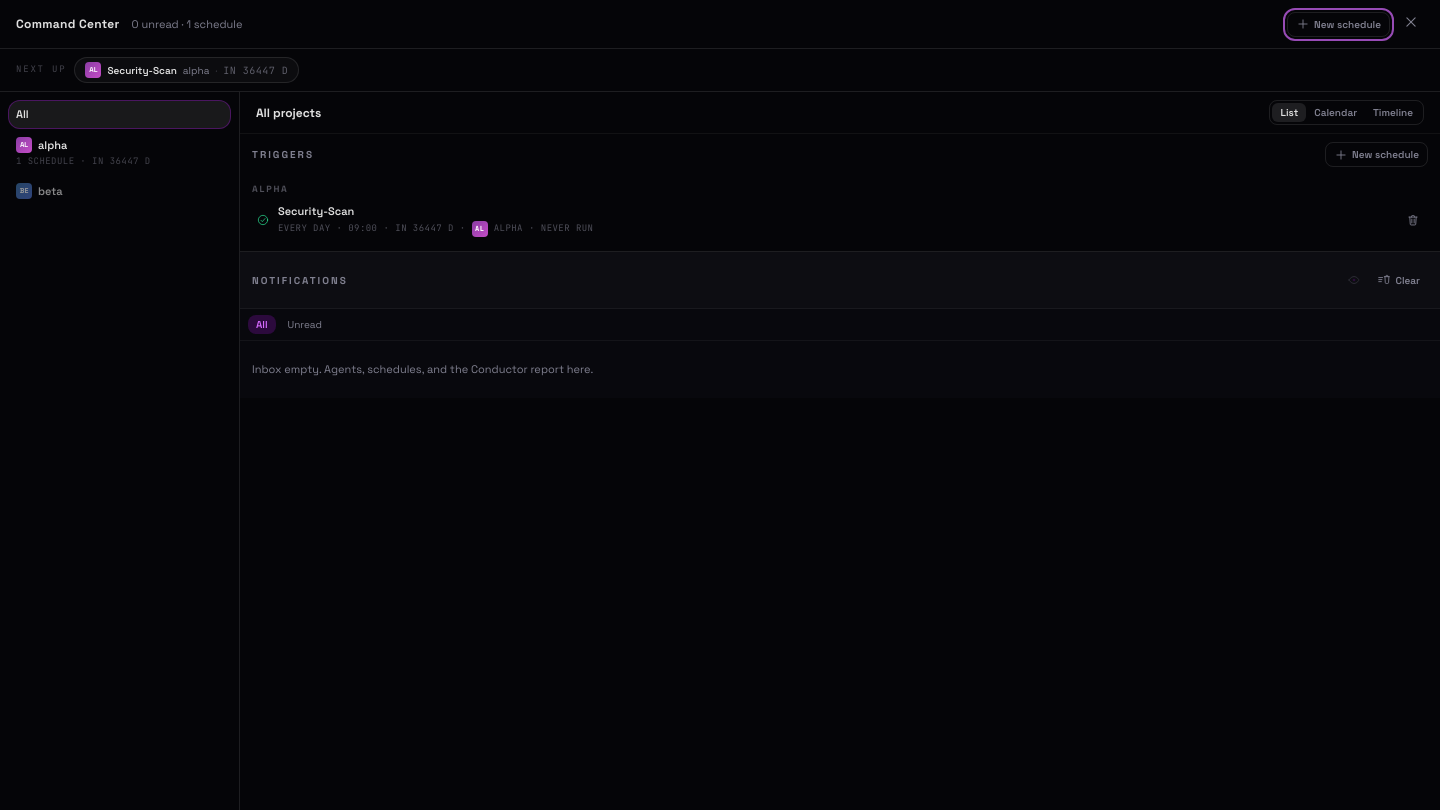
Test: CommandCenter › the triggers › opens the editor on a saved schedule
Click the button with test id "schedule-edit-s1". click: (316, 210)
box: x1=278 y1=202 x2=1394 y2=237
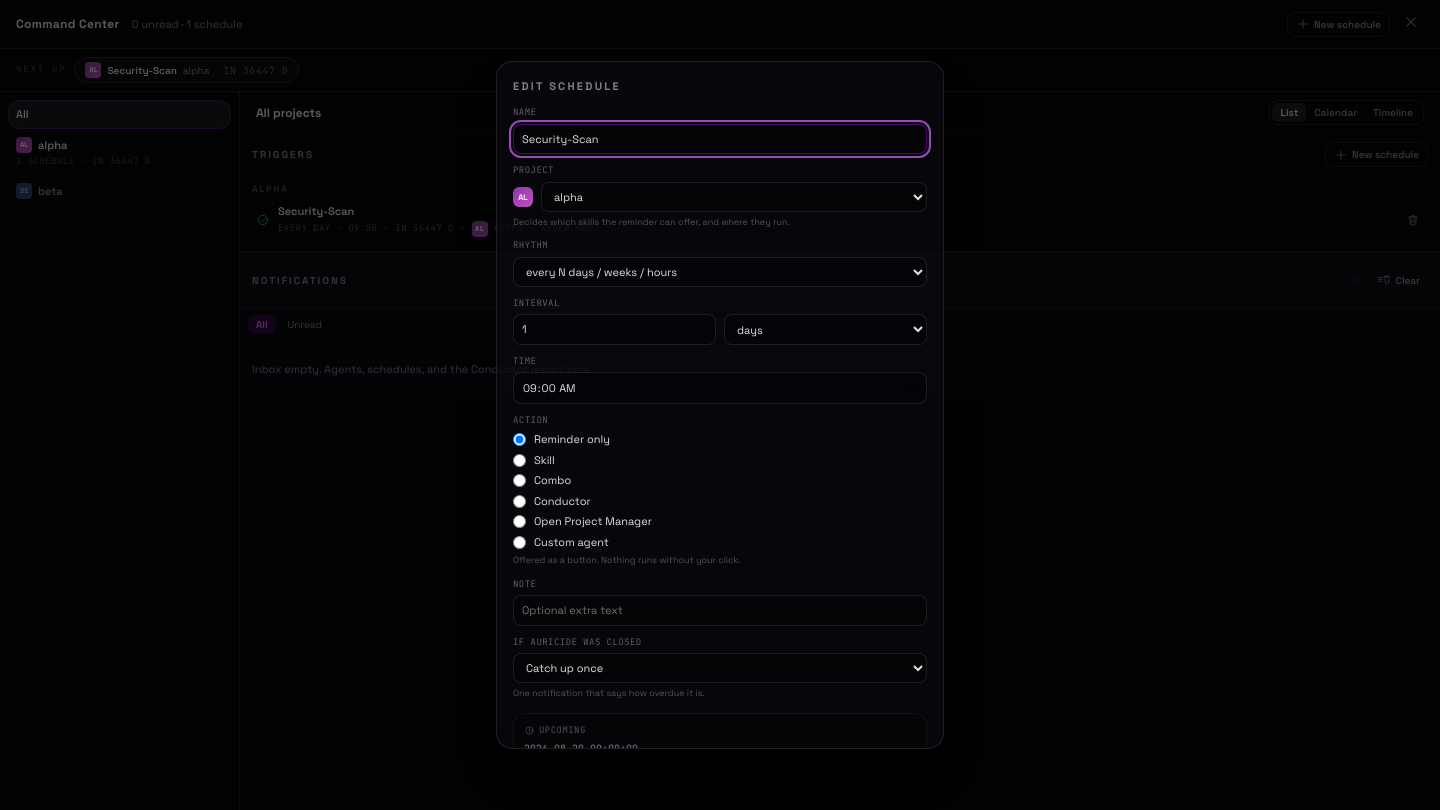
Check: the field with test id "schedule-name" holds "Security-Scan", box x1=513 y1=124 x2=927 y2=154
